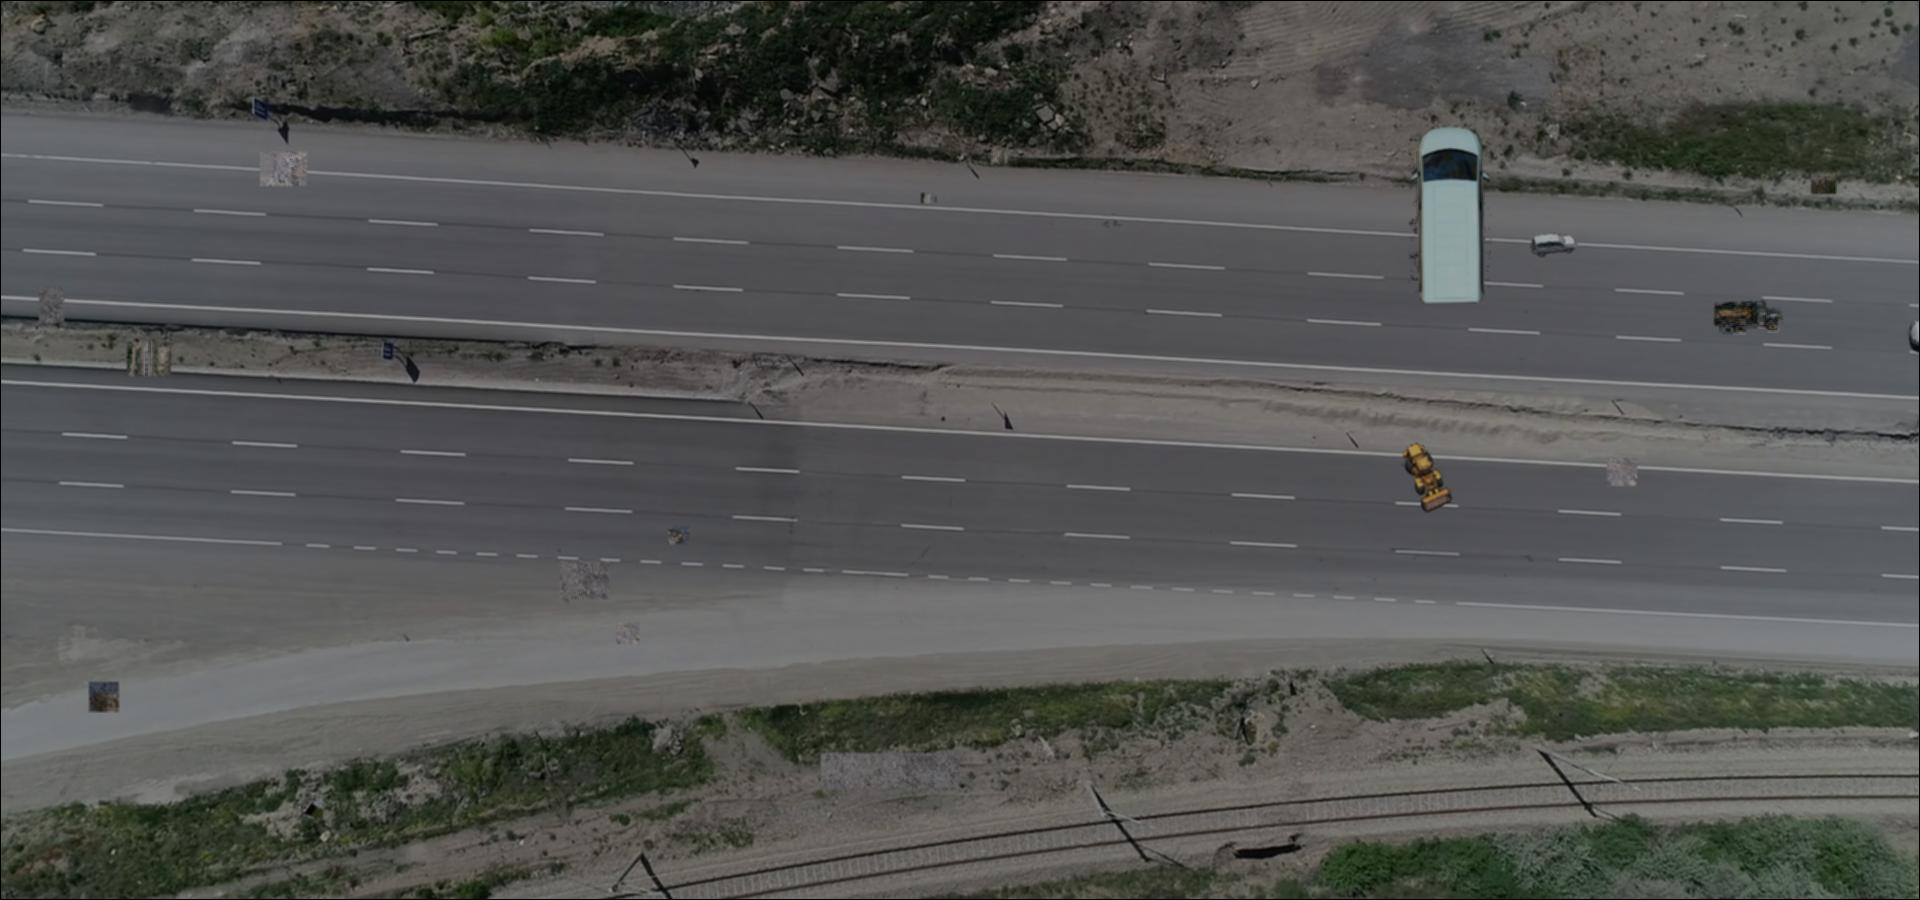arac: (1409, 122, 1491, 306), (1397, 443, 1456, 512), (1714, 299, 1784, 334), (1531, 231, 1578, 258)
